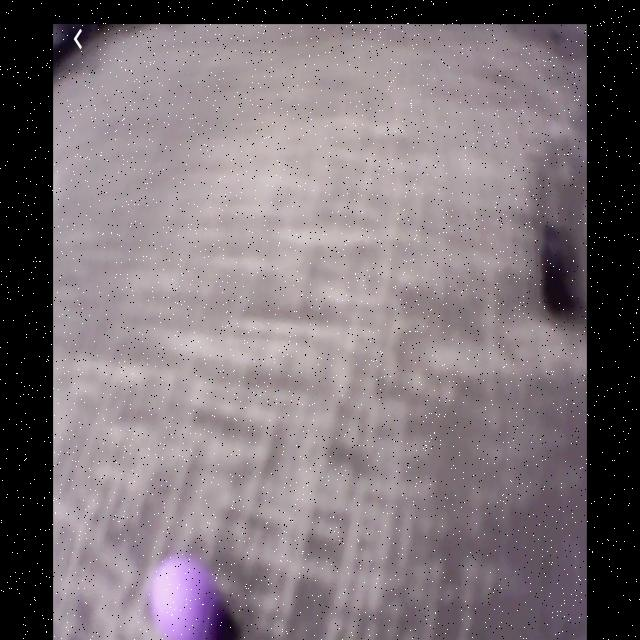ball: (146, 556, 225, 640)
